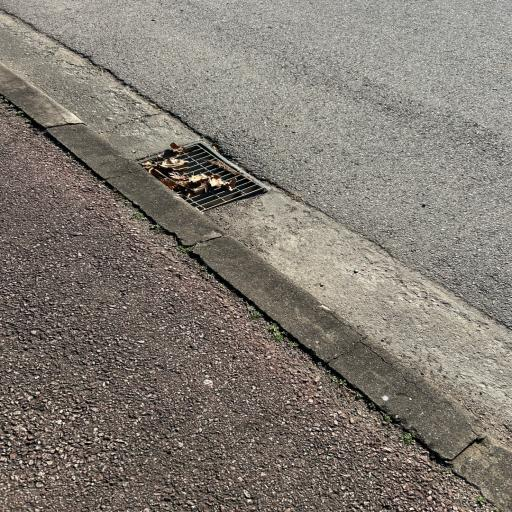debris: (163, 175, 220, 190), (166, 159, 184, 169), (214, 161, 227, 170), (145, 160, 152, 169), (229, 178, 235, 187), (211, 200, 221, 204), (179, 150, 183, 154), (225, 197, 229, 200)
drain: (141, 143, 267, 213)
